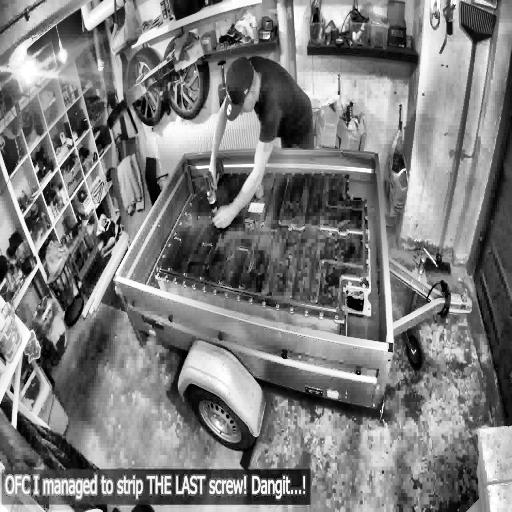b_casing: (151, 171, 369, 323)
